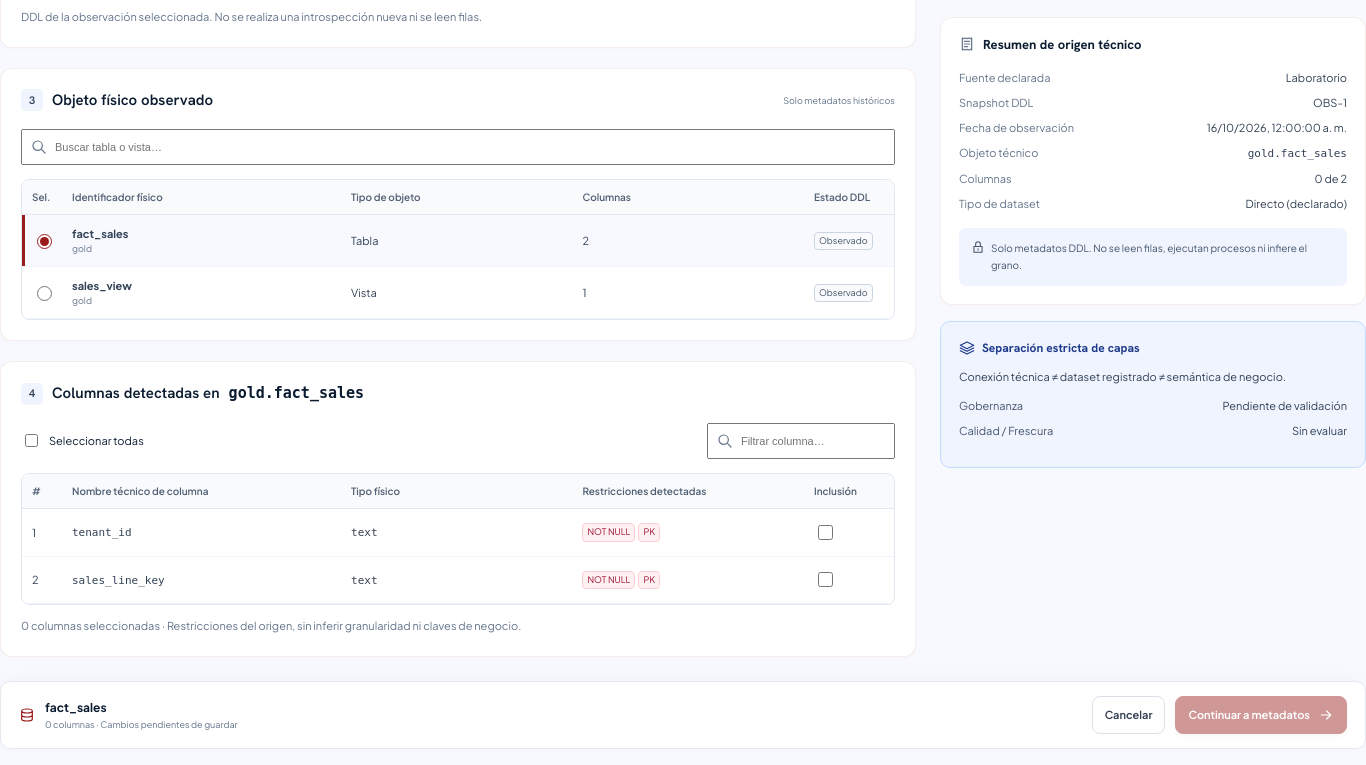
Test: shows observed objects and real column constraints beside a technical summary before moving to metadata
The width and height of the screenshot is (1366, 765).
(page scrolled)
Expected: the text "fact_sales" below "Sel." is shown, [72,227,128,240]
Expected: the text "PK" in the row of "tenant_id" is shown, [643,526,655,537]
Click the checkbox named "Seleccionar todas las columnas" at (32, 441), box [25,434,38,447]
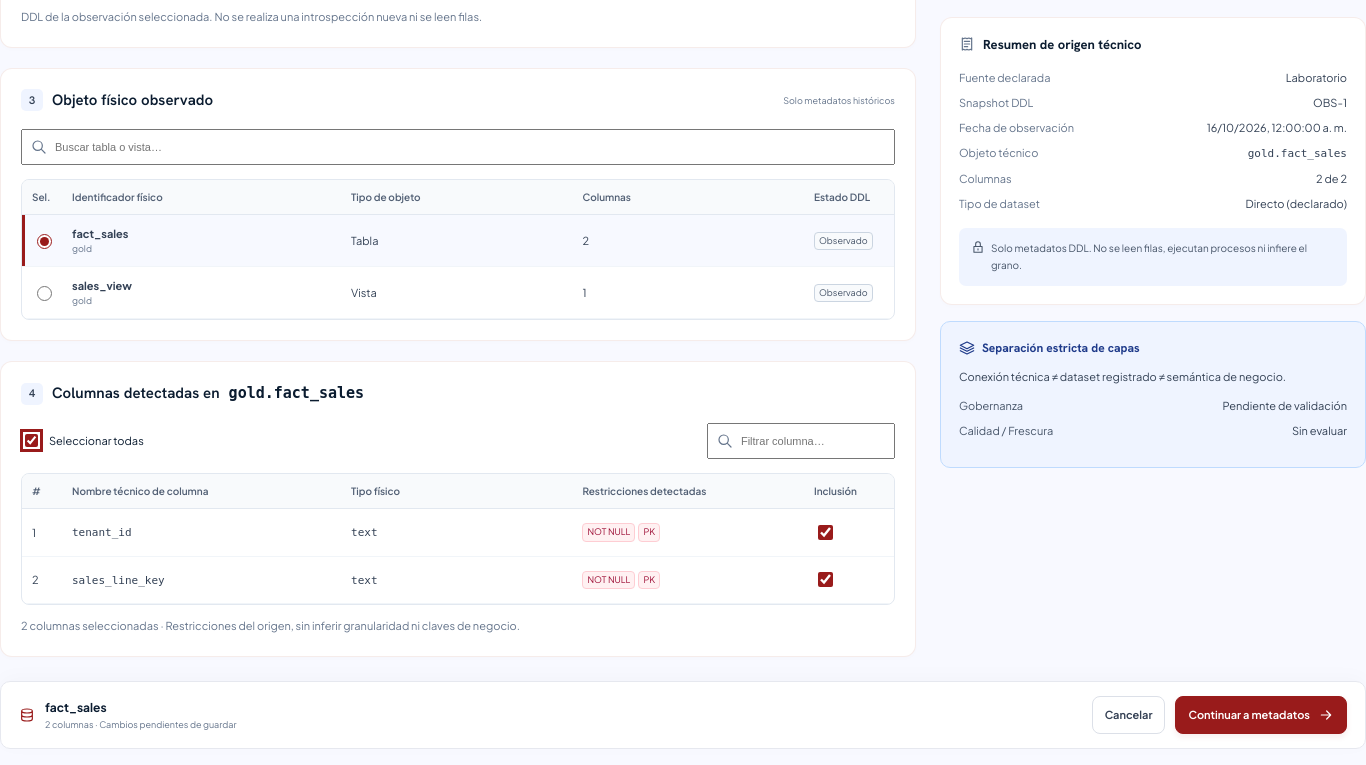
Expected: the element named "Resumen del registro" shows "gold.fact_sales", [1248,147,1347,160]
Now the checkbox named "Seleccionar columna tenant_id" is checked, box [818,525,833,540]
Now the checkbox named "Seleccionar columna sales_line_key" is checked, box [818,572,833,587]
Click the radio button named "Seleccionar objeto gold.sales_view" at (44, 293), box [37,286,52,301]
(page scrolled)
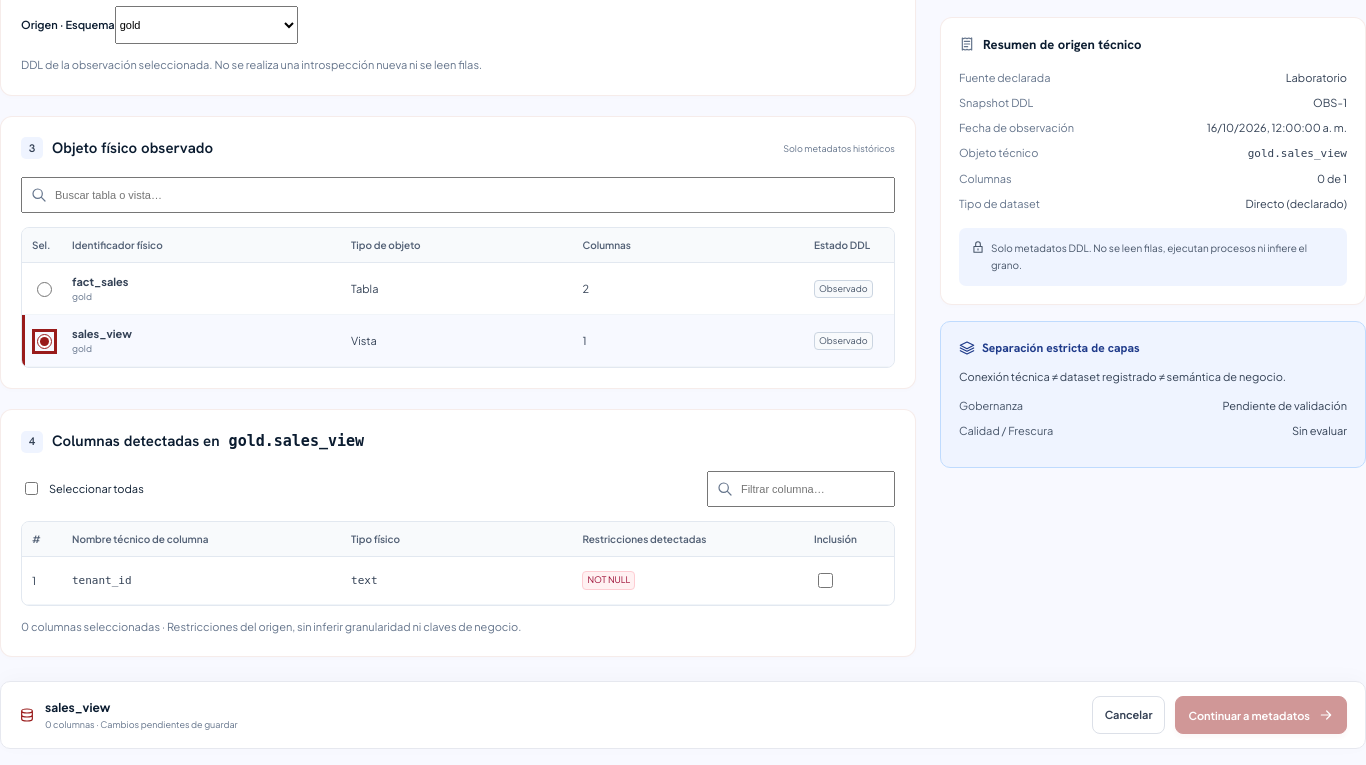
Now the button "Continuar a metadatos" is disabled, box [1176,696,1347,734]
Click the checkbox named "Seleccionar columna tenant_id" at (826, 580), box [818,573,833,588]
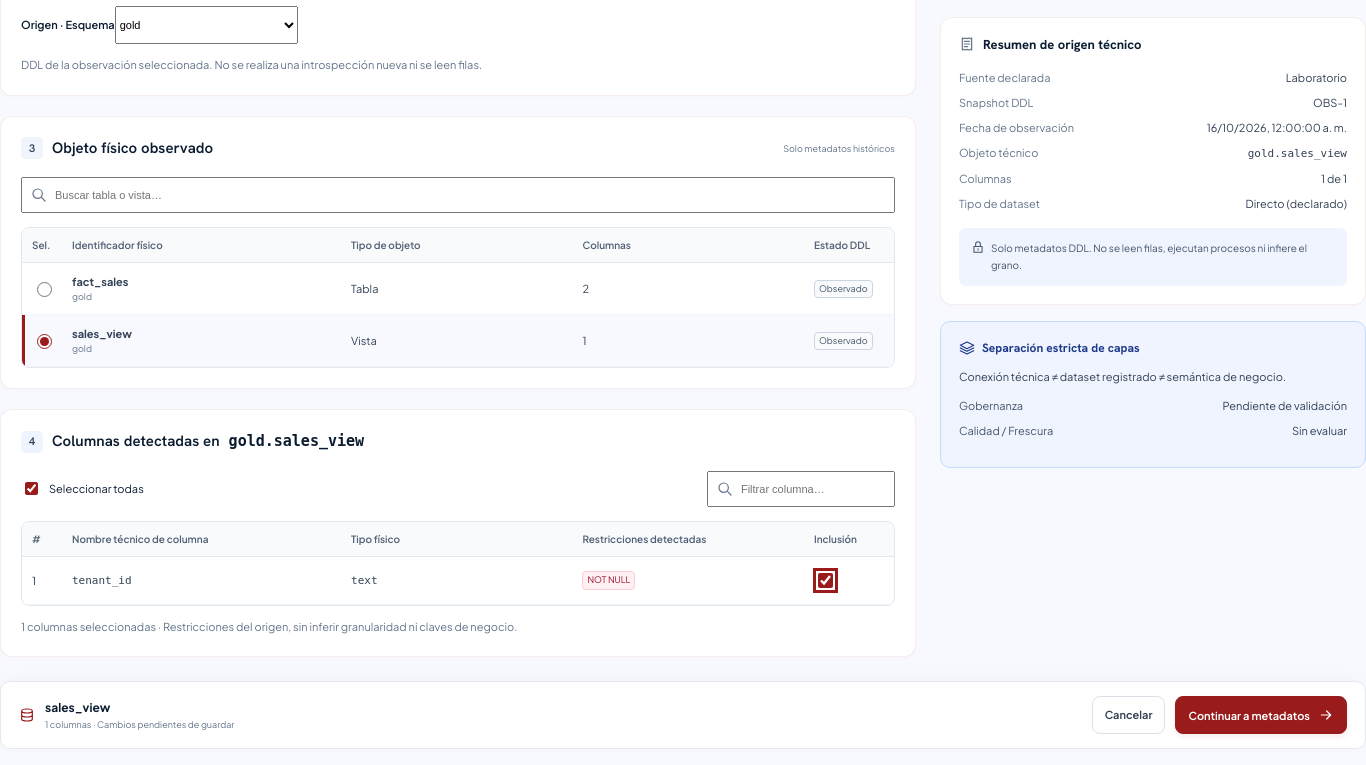
Click the button "Continuar a metadatos" at (1261, 715), box [1176,696,1347,734]
(page scrolled)
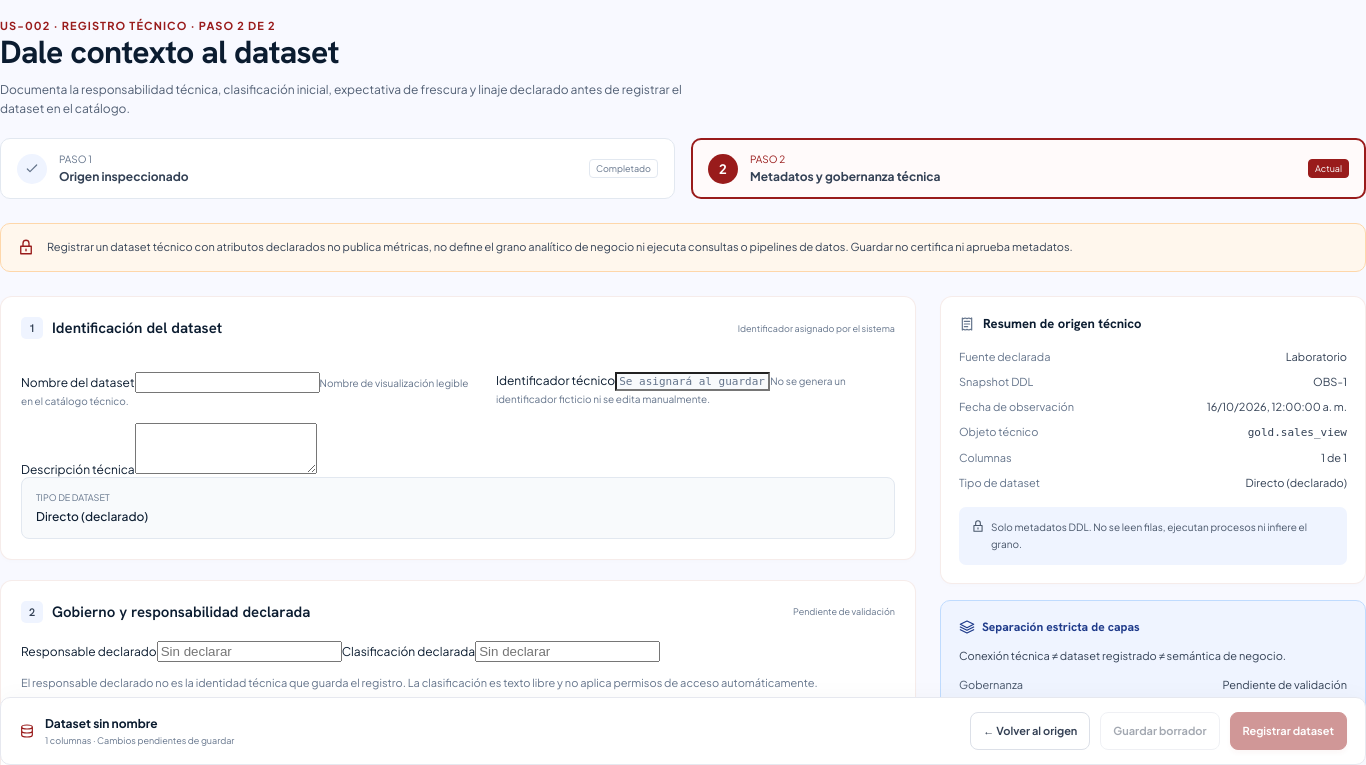
Expected: the field labelled "Clasificación declarada" is shown, [475,641,660,662]
Now the field labelled "Identificador técnico" holds "Se asignará al guardar", box [615,372,770,391]
